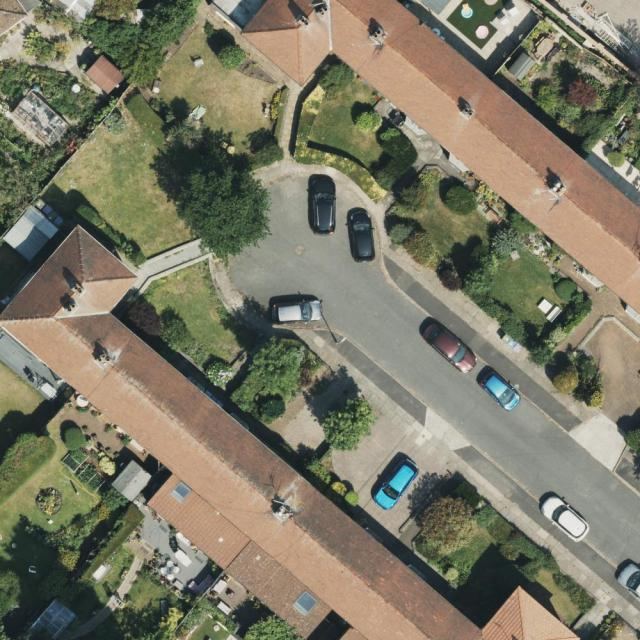roof: (0, 224, 579, 640), (241, 1, 640, 316)
skylight: (295, 592, 319, 615), (174, 481, 192, 500)
